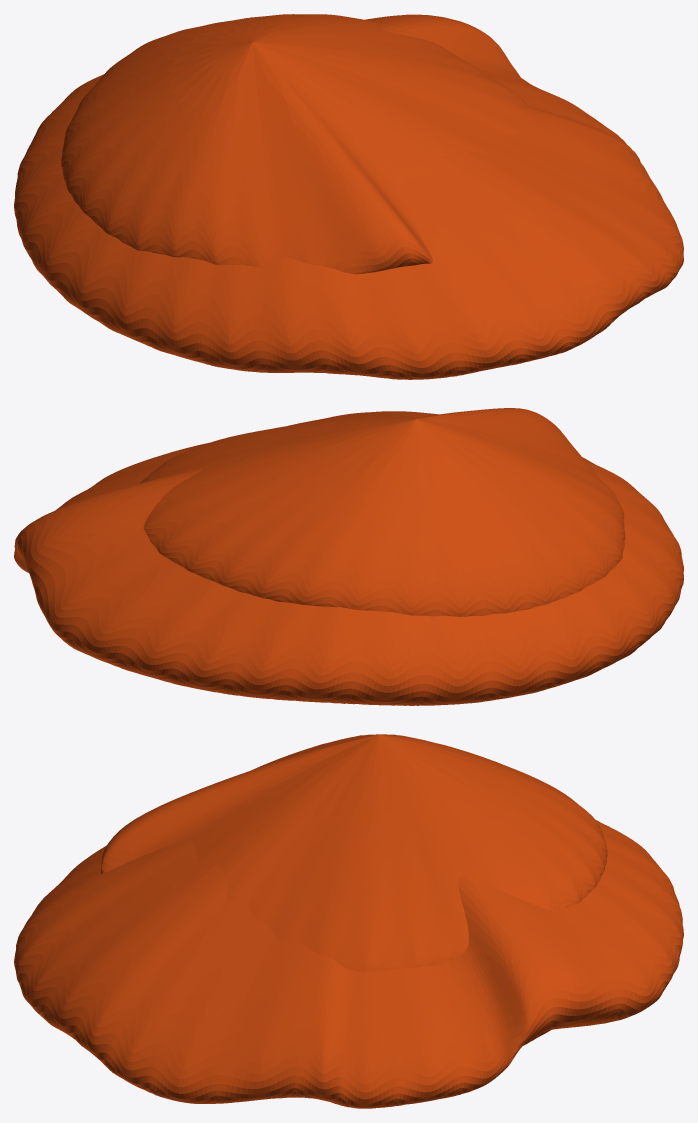
The model's file is Orange1.fbx.
The picture shows the model from 3 angles, top to bottom: view 1: azimuth 30°, elevation 25°; view 2: azimuth 150°, elevation 25°; view 3: azimuth 270°, elevation 25°; orthographic projection. The views are drawn at different scales.
Visible parts, largest first — view 1: Cone.001; view 2: Cone.001; view 3: Cone.001.
Part boxes in pixels (x1,y1,x2,y2): Cone.001: (14,14,683,379); Cone.001: (14,408,683,705); Cone.001: (14,734,683,1108).
Bounding box in the file's own units: 47.07 × 18.92 × 48.81.
